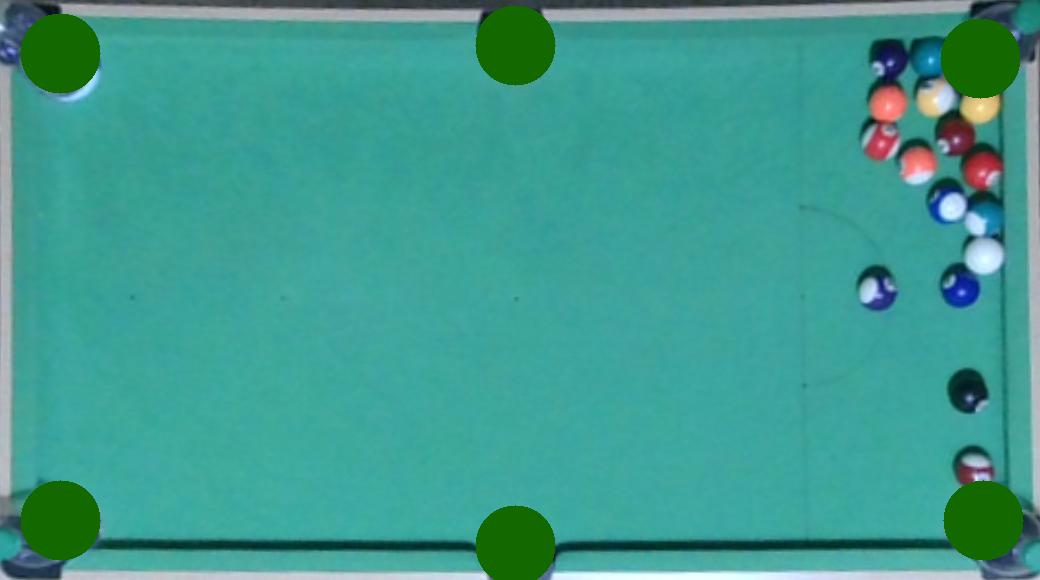Ball: (856, 265, 900, 311), (962, 192, 1006, 237), (926, 179, 970, 223), (961, 236, 1008, 276), (939, 263, 980, 308), (960, 150, 1004, 191), (897, 146, 939, 188), (915, 76, 956, 117), (933, 119, 977, 156), (860, 122, 902, 160), (951, 376, 989, 415), (869, 43, 911, 77), (957, 450, 997, 485), (869, 85, 906, 119), (959, 98, 1002, 123), (912, 38, 940, 75)
